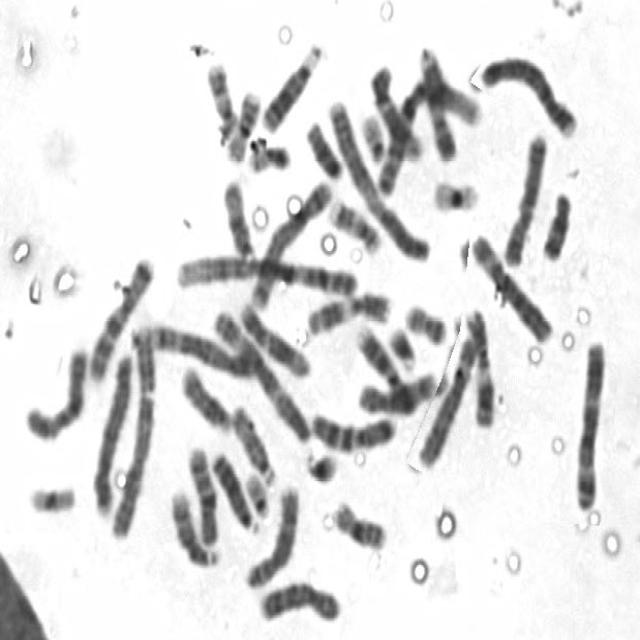A1: (372, 74, 485, 200), (170, 244, 362, 298)
A2: (323, 91, 434, 264), (104, 322, 160, 542)
A3: (208, 301, 312, 443), (569, 332, 609, 514)
B4: (478, 45, 580, 141), (89, 346, 135, 520)
B5: (244, 170, 335, 313), (140, 316, 256, 382)
C10: (354, 362, 441, 417), (183, 438, 221, 548)
C11: (302, 283, 395, 336), (460, 299, 497, 432)
C12: (234, 294, 313, 382), (367, 57, 428, 163)
C6: (466, 225, 556, 345), (414, 329, 478, 470)
C7: (84, 248, 157, 385), (305, 404, 398, 454)
C8: (240, 477, 301, 590), (253, 572, 344, 627)
C9: (413, 37, 459, 163), (352, 320, 411, 407)
D13: (258, 35, 326, 135), (206, 442, 262, 534)
D14: (166, 482, 223, 570), (176, 358, 233, 435)
D15: (228, 398, 279, 487), (218, 172, 259, 262)
E16: (327, 492, 390, 552), (221, 82, 263, 164)
E17: (324, 190, 384, 256), (201, 53, 240, 141)
E18: (536, 182, 575, 263), (300, 111, 345, 180)
F19: (427, 170, 482, 214), (23, 474, 78, 517)
F20: (400, 295, 449, 346), (244, 135, 294, 175)
G21: (384, 318, 418, 373), (300, 443, 341, 486)
G22: (356, 104, 388, 164), (241, 465, 273, 521)
X: (20, 338, 91, 443), (499, 123, 550, 269)
